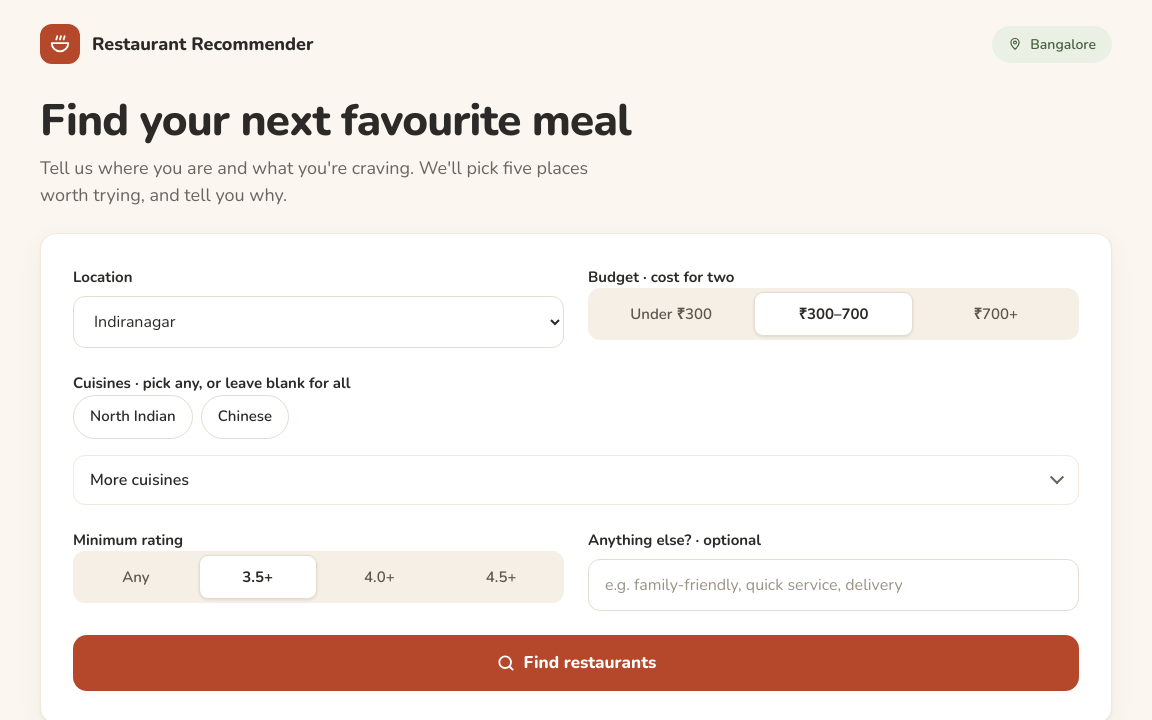
Scenario: Recommender › submits the default payload and renders cards
Click the button "Find restaurants": (576, 663) [73,635,1079,691]
(page scrolled)
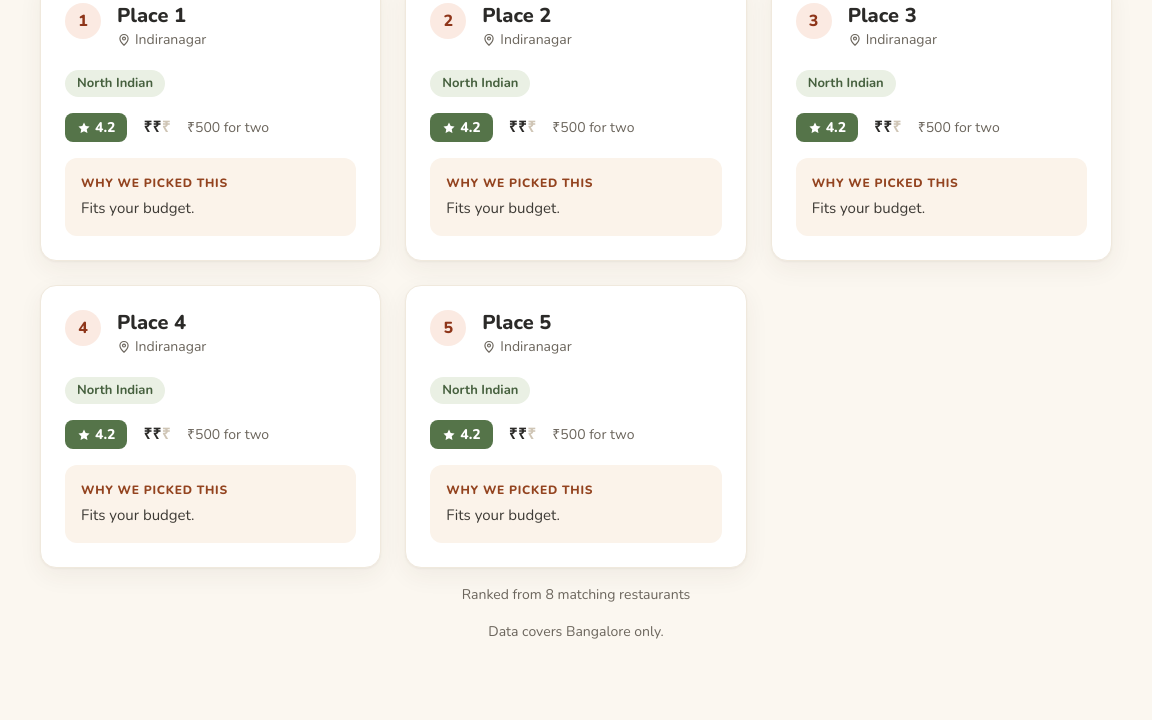
Expected: the text "Why we picked this" is shown 5 times, [81,175,228,191]; [446,175,593,191]; [812,175,958,191]; [81,482,228,498]; [446,482,593,498]
Expected: the text "₹500 for two" is shown 5 times, [187,117,269,138]; [552,117,634,138]; [918,117,1000,138]; [187,424,269,445]; [552,424,634,445]
Expected: the text "Ranked from 8 matching restaurants" is shown, [462,585,690,604]
